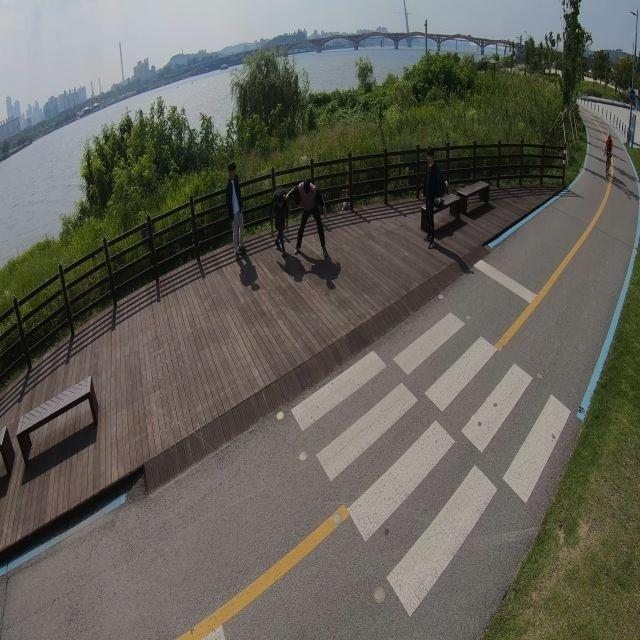fight: (269, 176, 331, 257)
non-fight: (419, 150, 444, 250), (225, 161, 246, 265)
